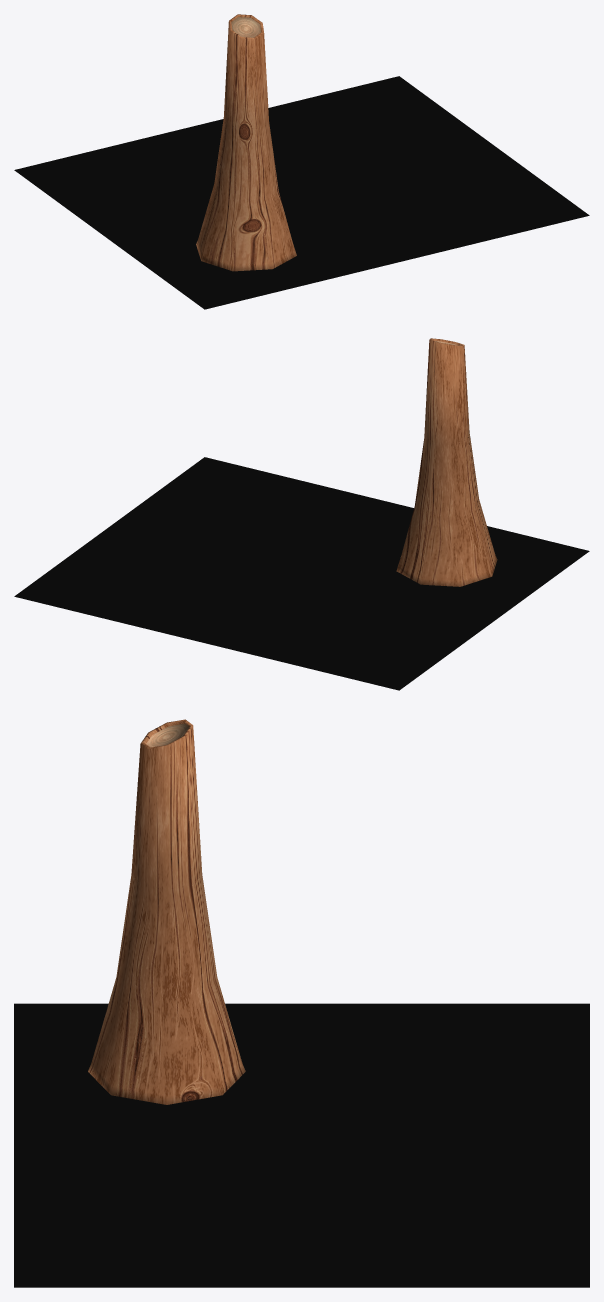
The model's file is SM_Env_TreeDeath2.fbx.
3 renders of one model, top to bottom at view 1: azimuth 30°, elevation 25°; view 2: azimuth 150°, elevation 25°; view 3: azimuth 270°, elevation 25°, orthographic. The views are drawn at different scales.
Visible parts, largest first — view 1: SM_Env_TreeDeath2; view 2: SM_Env_TreeDeath2; view 3: SM_Env_TreeDeath2.
Part boxes in pixels (x1=…): SM_Env_TreeDeath2: x1=14, y1=14, x2=589, y2=309; SM_Env_TreeDeath2: x1=14, y1=338, x2=589, y2=690; SM_Env_TreeDeath2: x1=14, y1=719, x2=589, y2=1287.
Size of the model in its own units: 138 by 79.94 by 119.
